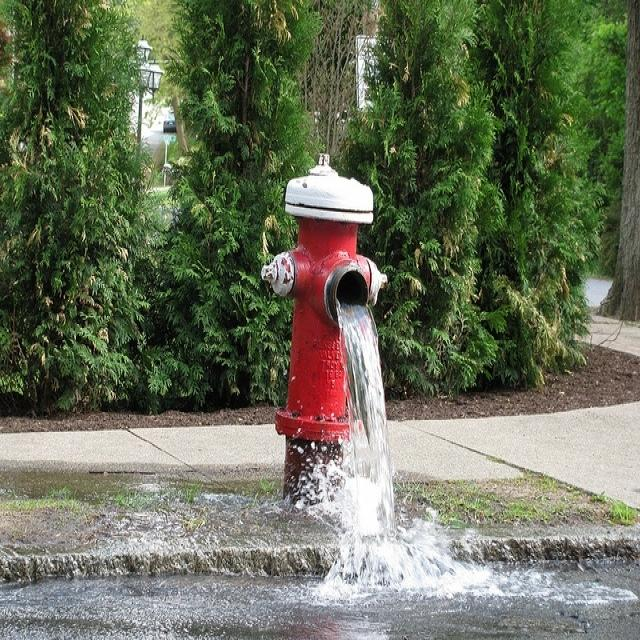fire_hydrant: (256, 150, 404, 512)
